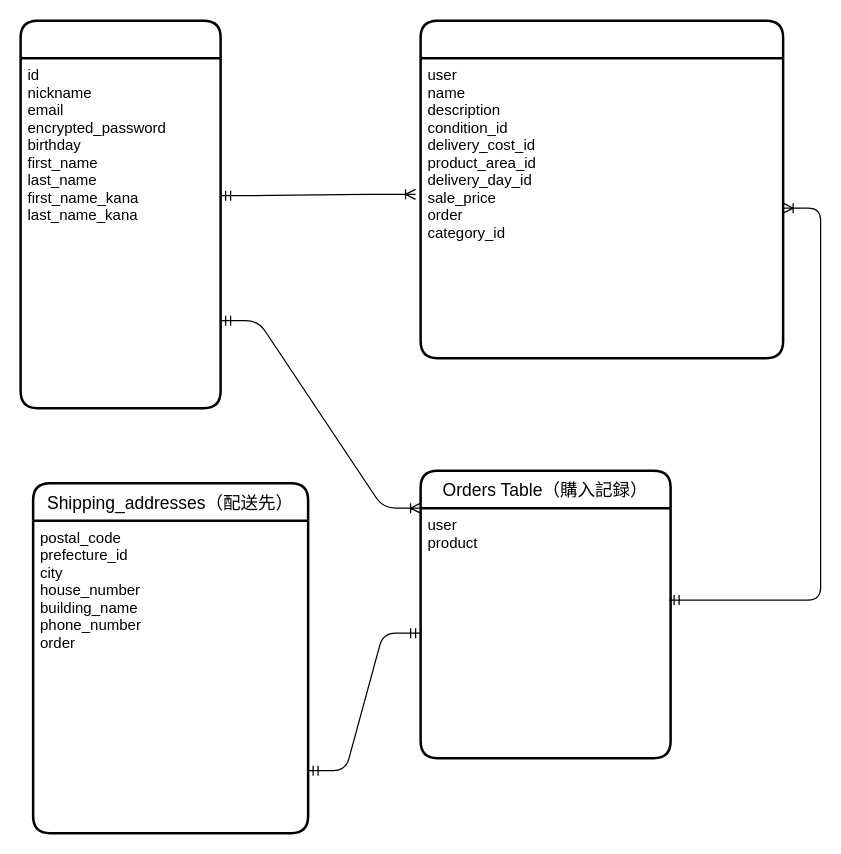
Image size: 841x854. Some labels were removed from this diagram. The shapes that lost their labels are listed below. From the top down, each one's box as (x1, y1, x2, y2) in pixels, then its label:
(419, 19, 784, 359): Products Table (出品中商品情報）
(19, 19, 221, 409): Users Table
